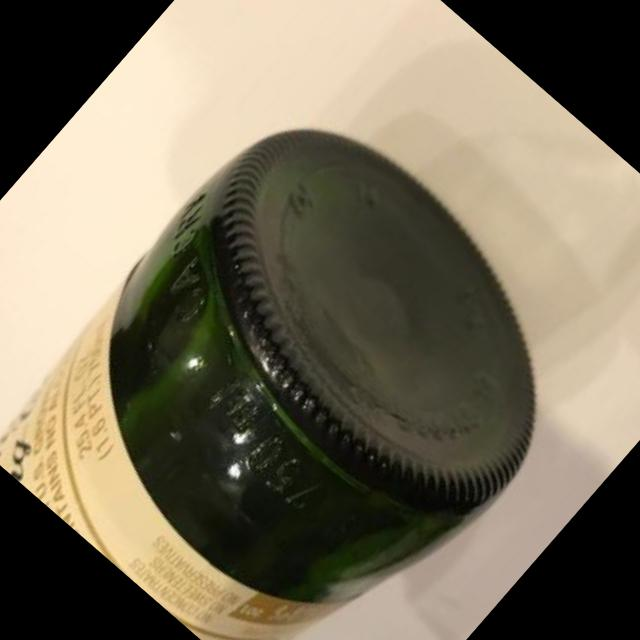BotolKaca: (0, 70, 624, 640)
